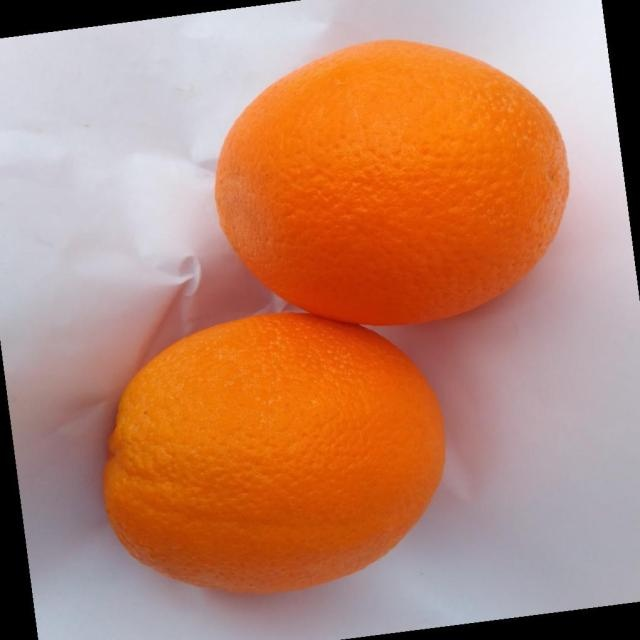agrume: (213, 37, 570, 326), (102, 310, 446, 595)
